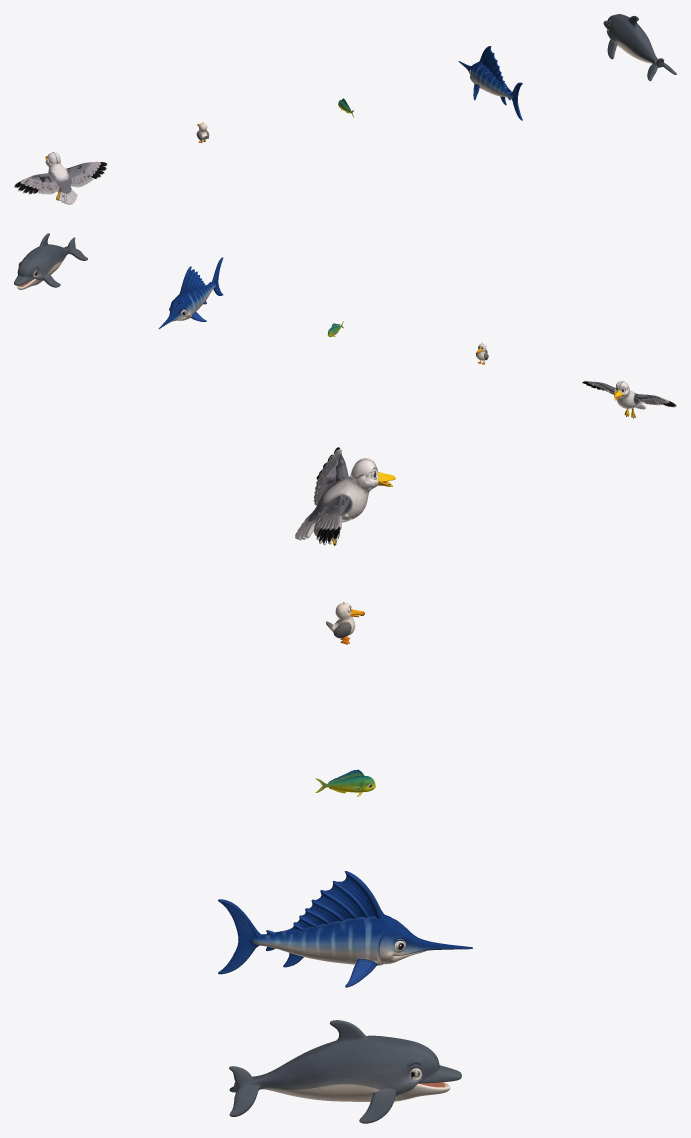
The model's file is creatures.glb.
3 views of the same model, one above another, from view 1: azimuth 30°, elevation 25°; view 2: azimuth 150°, elevation 25°; view 3: azimuth 270°, elevation 25° (orthographic). The views are drawn at different scales.
Parts seen in each view (by area): view 1: dolphin, marlin, seagull, seagull_wingR, seagull_wingL; view 2: dolphin, marlin, seagull, seagull_wingR; view 3: dolphin, marlin, seagull, seagull_wingL.
Boxes of the visible parts, <box> form: dolphin: <box>603,14,676,81</box>; marlin: <box>458,46,522,120</box>; seagull: <box>45,152,77,204</box>; seagull_wingR: <box>14,173,56,194</box>; seagull_wingL: <box>68,161,107,187</box>; dolphin: <box>14,233,87,289</box>; marlin: <box>158,257,223,328</box>; seagull: <box>614,381,646,418</box>; seagull_wingR: <box>635,394,676,407</box>; dolphin: <box>229,1020,461,1123</box>; marlin: <box>218,871,472,987</box>; seagull: <box>295,458,395,545</box>; seagull_wingL: <box>313,496,350,545</box>.
Size of the model in its own units: 26.75 by 2.05 by 4.6.
Materials: 5 (5 with a texture image).
